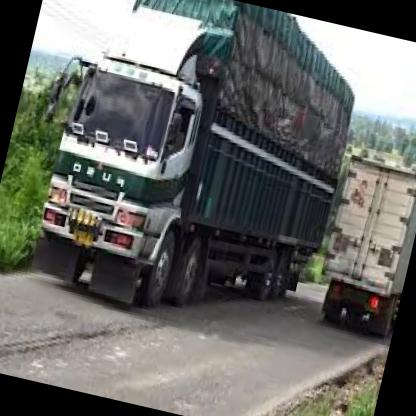truck: (24, 49, 214, 318)
